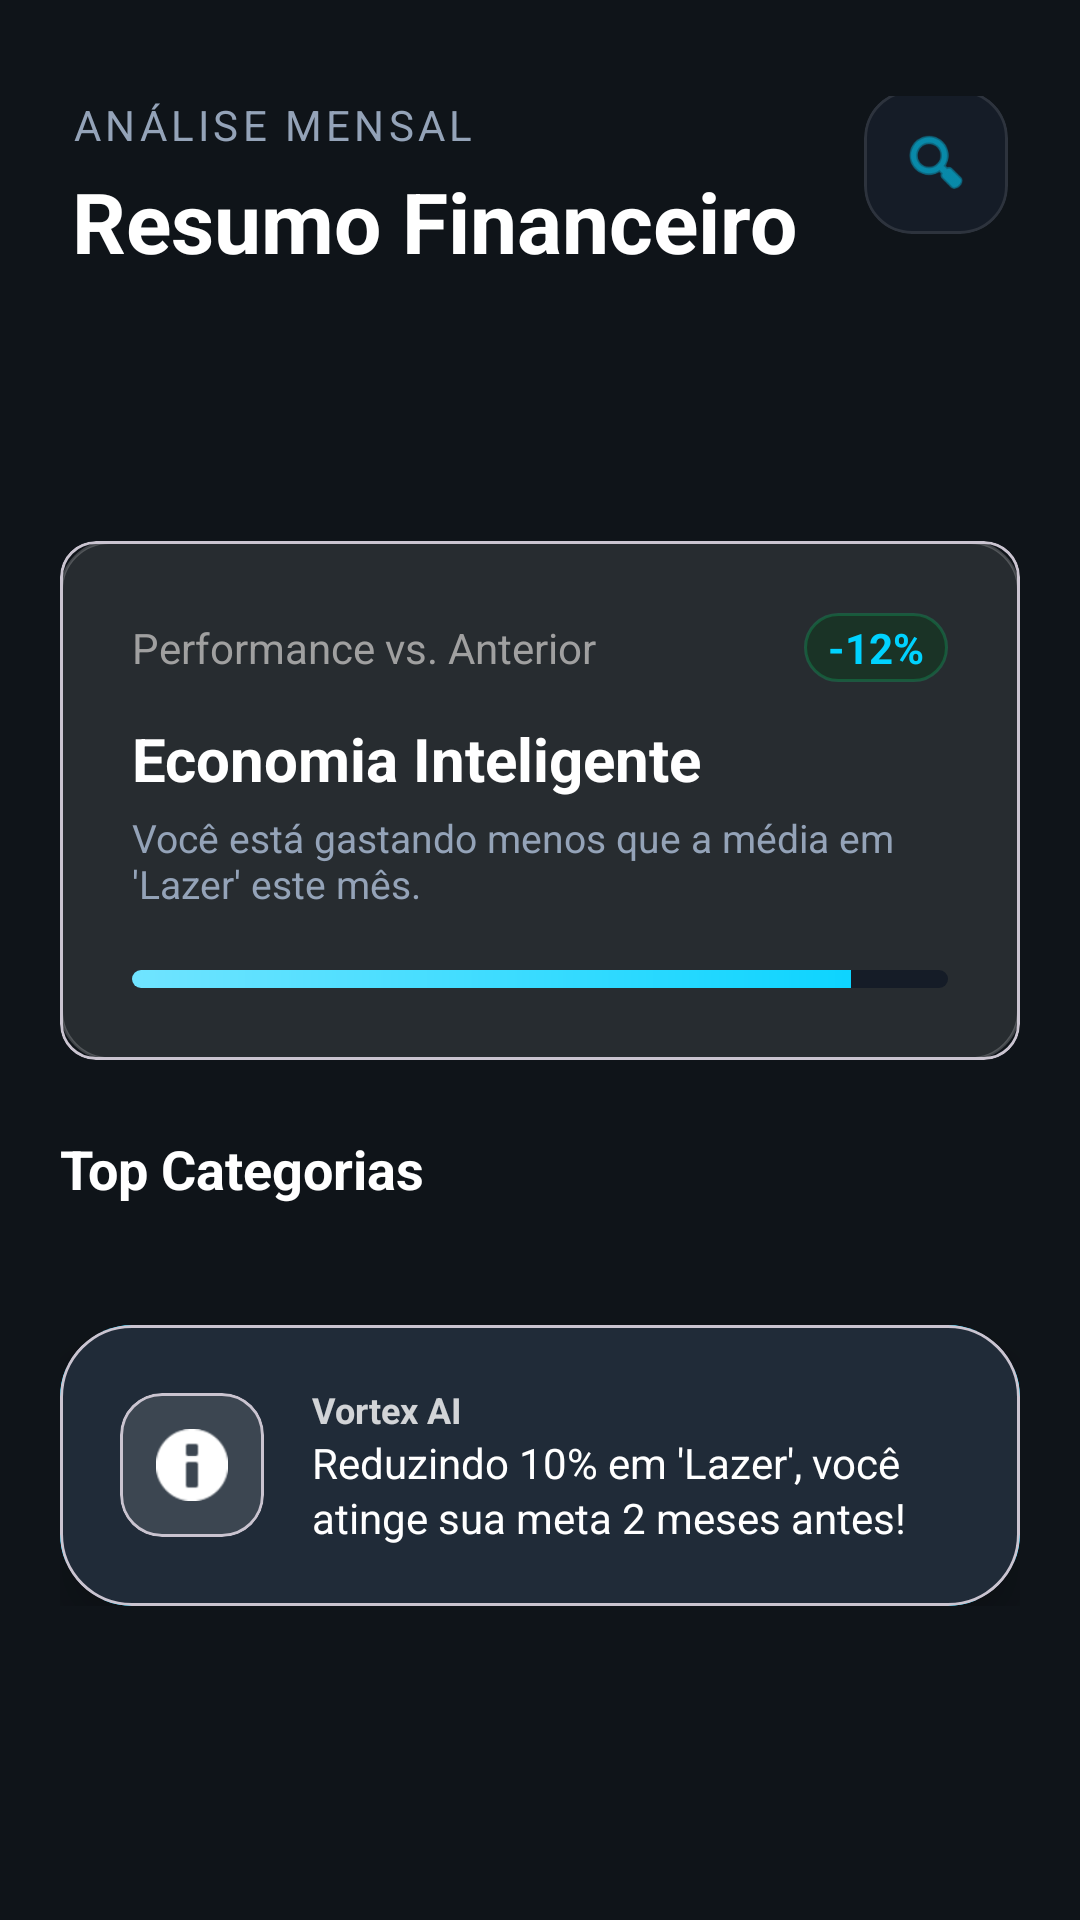

Screen size 1080px x 1920px. Icon name, then its center in pixels as (x,y):
info: (192,1465)
search: (936,165)
